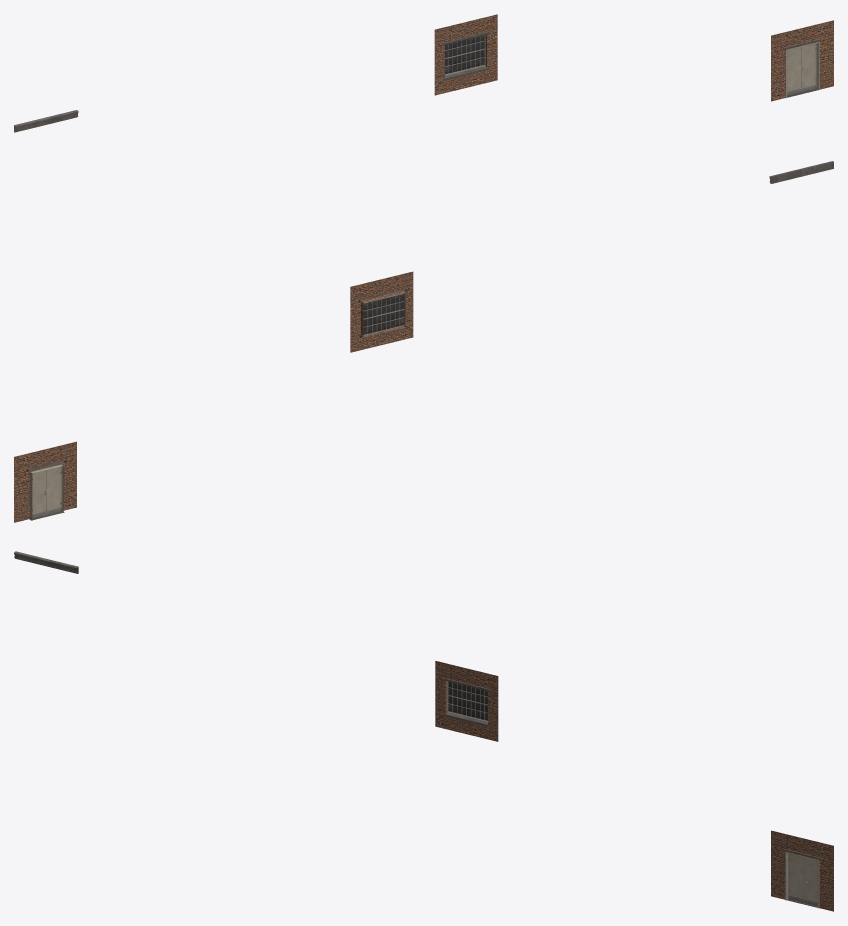
Rendered from modular_factory_facade.glb.
3 views of the same model, one above another, from view 1: azimuth 30°, elevation 25°; view 2: azimuth 210°, elevation 25°; view 3: azimuth 330°, elevation 25° (orthographic).
Parts seen in each view (by area): view 1: wall_window_centered_large_01, wall_door_centered_large_01, door_centered_large_01, window_centered_large_01, crown_standard_standard_01; view 2: wall_window_centered_large_01, wall_door_centered_large_01, door_centered_large_01, window_centered_large_01; view 3: wall_window_centered_large_01, wall_door_centered_large_01, door_centered_large_01, window_centered_large_01.
Part boxes in pixels (left/top/right/bottom): wall_window_centered_large_01: left=434, top=14, right=497, bottom=95; wall_door_centered_large_01: left=771, top=20, right=833, bottom=101; door_centered_large_01: left=783, top=38, right=821, bottom=97; window_centered_large_01: left=442, top=31, right=489, bottom=80; crown_standard_standard_01: left=14, top=110, right=78, bottom=132; wall_window_centered_large_01: left=350, top=271, right=413, bottom=352; wall_door_centered_large_01: left=14, top=441, right=76, bottom=522; door_centered_large_01: left=26, top=460, right=66, bottom=520; window_centered_large_01: left=358, top=288, right=406, bottom=337; wall_window_centered_large_01: left=435, top=661, right=498, bottom=741; wall_door_centered_large_01: left=771, top=830, right=833, bottom=911; door_centered_large_01: left=783, top=849, right=821, bottom=908; window_centered_large_01: left=443, top=678, right=489, bottom=726.
Size of the model in its own units: 39 by 7.32 by 0.335.
5 materials, 5 textured.
